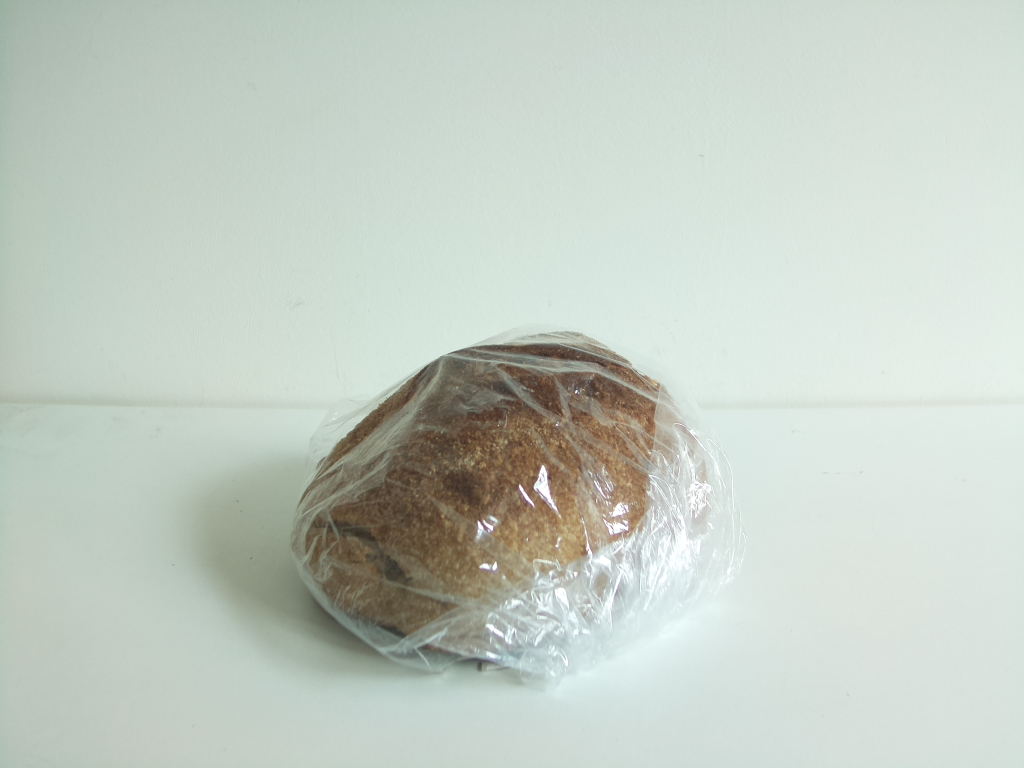bread: (296, 338, 705, 670)
